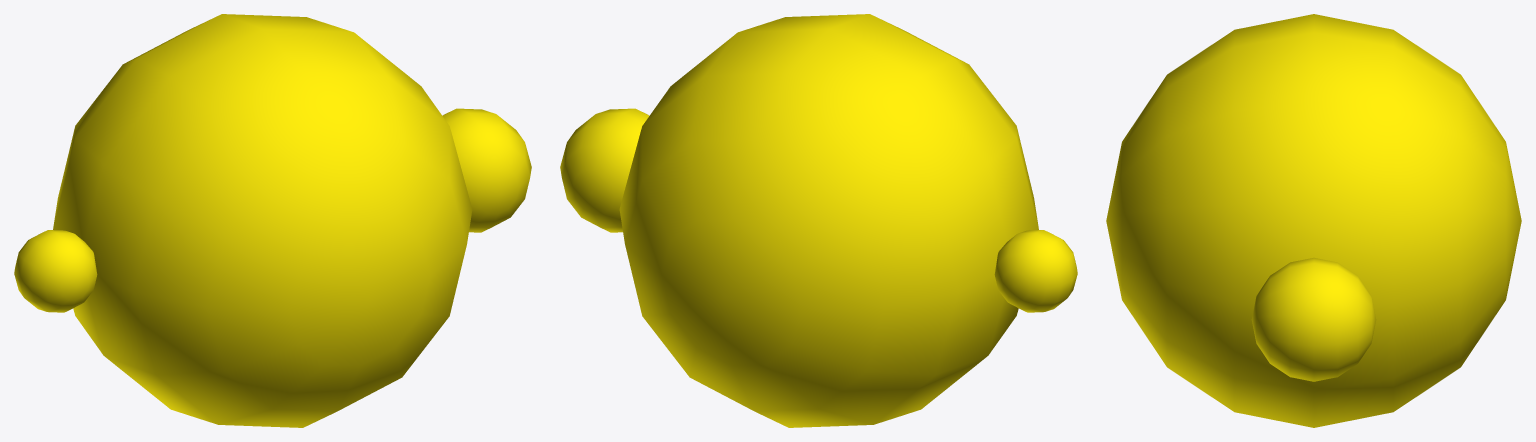
File: q10_gold.glb
The picture shows the model from 3 angles, left to right: view 1: azimuth 30°, elevation 25°; view 2: azimuth 150°, elevation 25°; view 3: azimuth 270°, elevation 25°; orthographic projection.
Visible parts, largest first — view 1: Coral Trout; view 2: Coral Trout; view 3: Coral Trout.
Part boxes in pixels (<box>): Coral Trout: <box>14,14,531,427</box>; Coral Trout: <box>560,14,1077,427</box>; Coral Trout: <box>1106,14,1521,427</box>.
Size of the model in its own units: 1.1 by 0.8 by 0.8.
